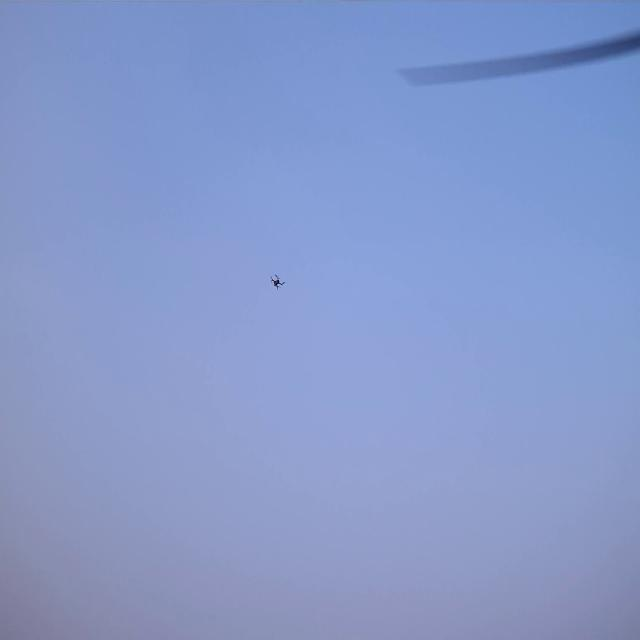UAV: (272, 277, 284, 289)
